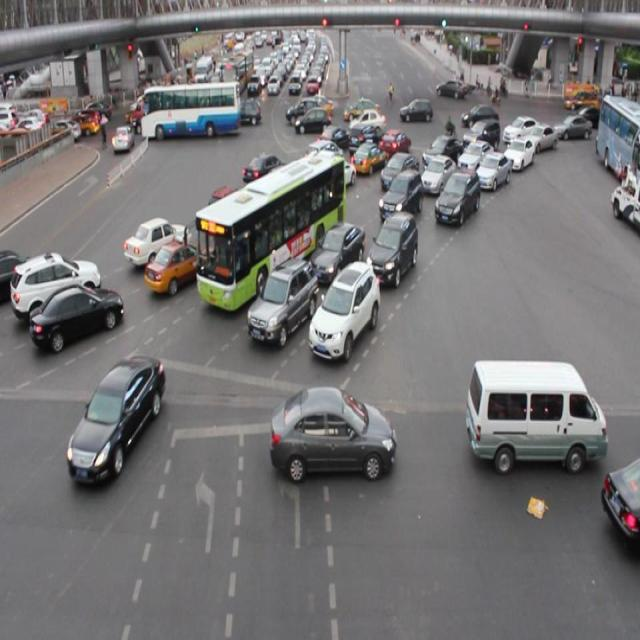BigCar: (184, 138, 353, 312), (138, 73, 244, 149)
car: (464, 359, 614, 478), (64, 331, 167, 488), (268, 388, 411, 496), (28, 283, 130, 363), (310, 260, 384, 362), (5, 256, 110, 312), (246, 252, 312, 341), (370, 204, 420, 291), (140, 229, 199, 298), (377, 167, 428, 235), (309, 214, 358, 284), (437, 166, 478, 229), (123, 220, 198, 252), (290, 102, 331, 146), (379, 140, 419, 185), (480, 148, 517, 196), (414, 152, 457, 187), (342, 102, 389, 134), (372, 128, 407, 168), (107, 127, 140, 166), (399, 94, 438, 125), (350, 143, 380, 172), (284, 102, 318, 124), (263, 77, 282, 106), (287, 73, 305, 98), (307, 73, 322, 102)
